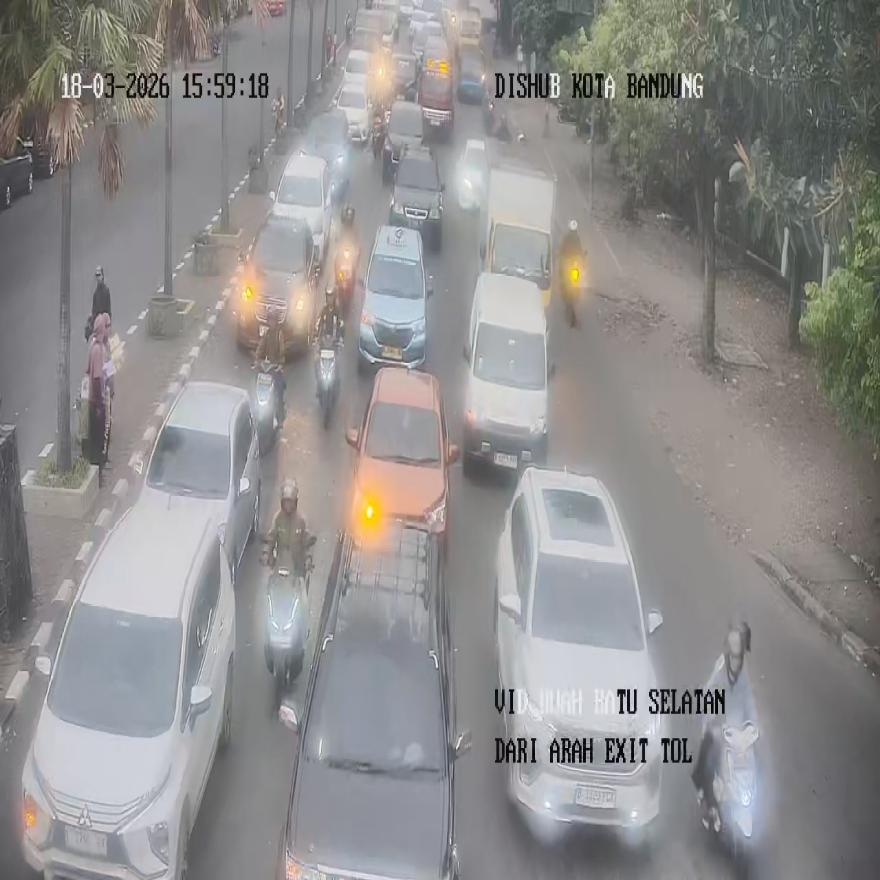Mobil: (19, 495, 234, 879), (276, 518, 470, 878), (492, 464, 664, 844), (140, 379, 260, 583), (344, 365, 460, 560), (462, 272, 554, 475), (237, 213, 321, 358), (356, 222, 433, 373), (269, 150, 332, 266), (390, 142, 444, 249)
Motor: (696, 721, 759, 876), (263, 532, 312, 710), (254, 363, 285, 456), (316, 341, 339, 429), (560, 250, 584, 326), (334, 244, 356, 316), (371, 102, 386, 156)
Truk ringan: (478, 160, 555, 312)
